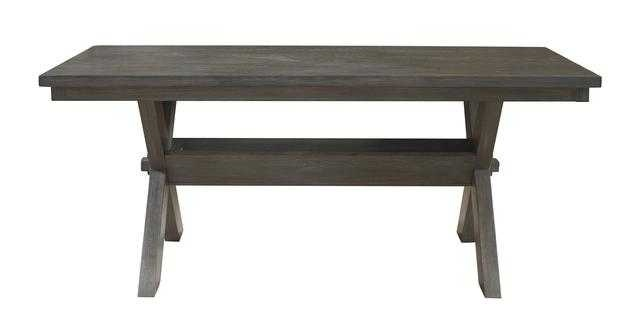obstacle: (39, 46, 600, 297)
